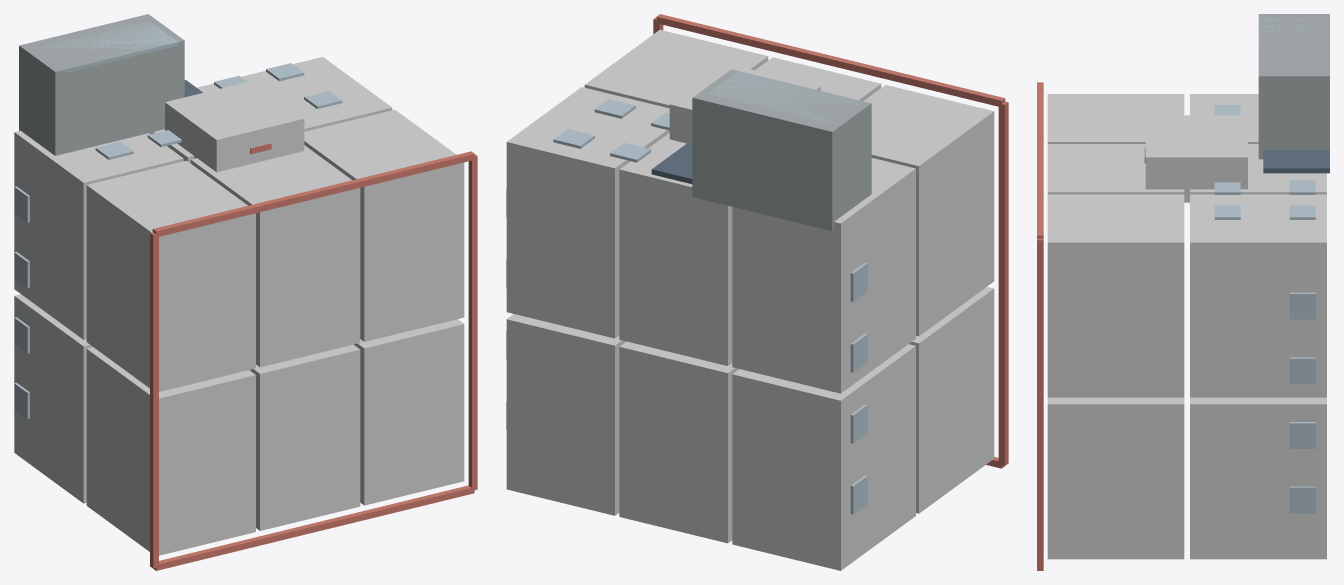
The model's file is building-hospital.glb.
3 renders of one model, left to right at view 1: azimuth 30°, elevation 25°; view 2: azimuth 150°, elevation 25°; view 3: azimuth 270°, elevation 25°, orthographic. The views are drawn at different scales.
Parts seen in each view (by area): view 1: world; view 2: world; view 3: world.
Boxes of the visible parts, left/top/right/bottom form: world: left=14, top=14, right=477, bottom=570; world: left=506, top=14, right=1008, bottom=570; world: left=1037, top=14, right=1329, bottom=570.
Size of the model in its own units: 15.56 by 18.98 by 12.32.
